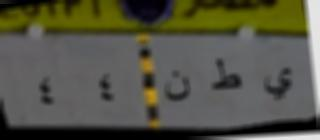4: (33, 75, 60, 110), (95, 70, 120, 107)
Taa: (211, 56, 242, 97)
noon: (162, 69, 195, 106)
yaa: (262, 64, 294, 104)
